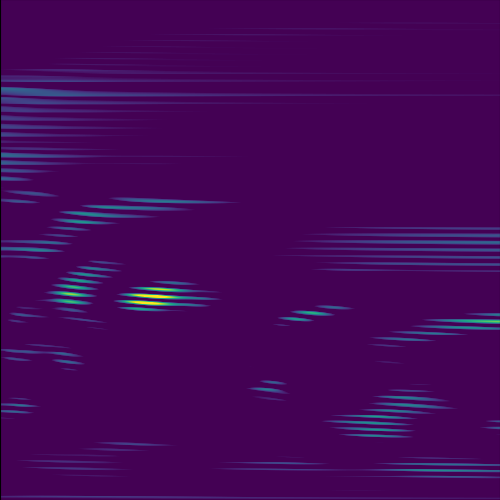semblance: (113, 277, 214, 316)
